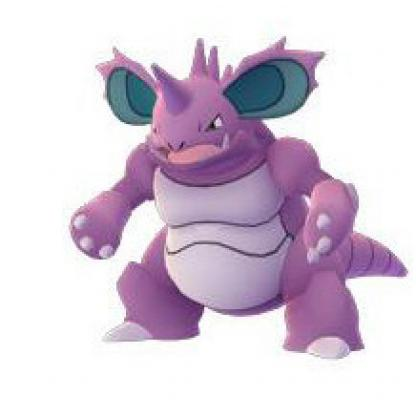Nidoking: (77, 37, 416, 364)
